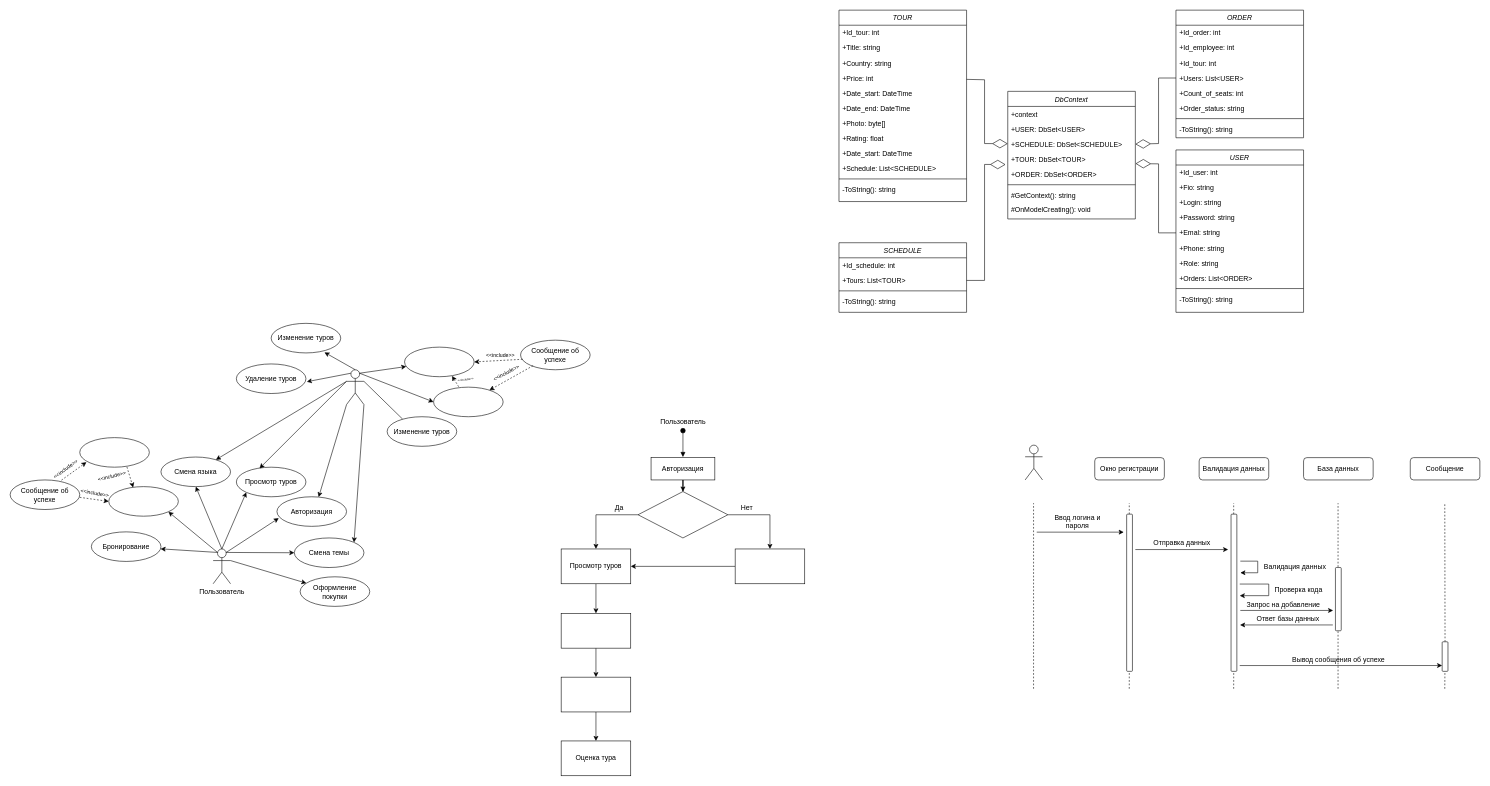
The diagram is 1490 pixels wide and 786 high, and some of its shapes have lost their labels. Here are the shapes that lost their labels. From the top down, the centre of each, then its label:
point 439,362: Добавление туров
point 355,387: Администратор
point 468,402: Контроль туров
point 114,452: Обработка данных
point 1034,462: Новый пользователь
point 143,501: Регистрация
point 682,514: Пользователь зарегистрирован
point 770,566: Регистрация пользователя
point 596,630: Выбор тура
point 596,694: Оформление тура
